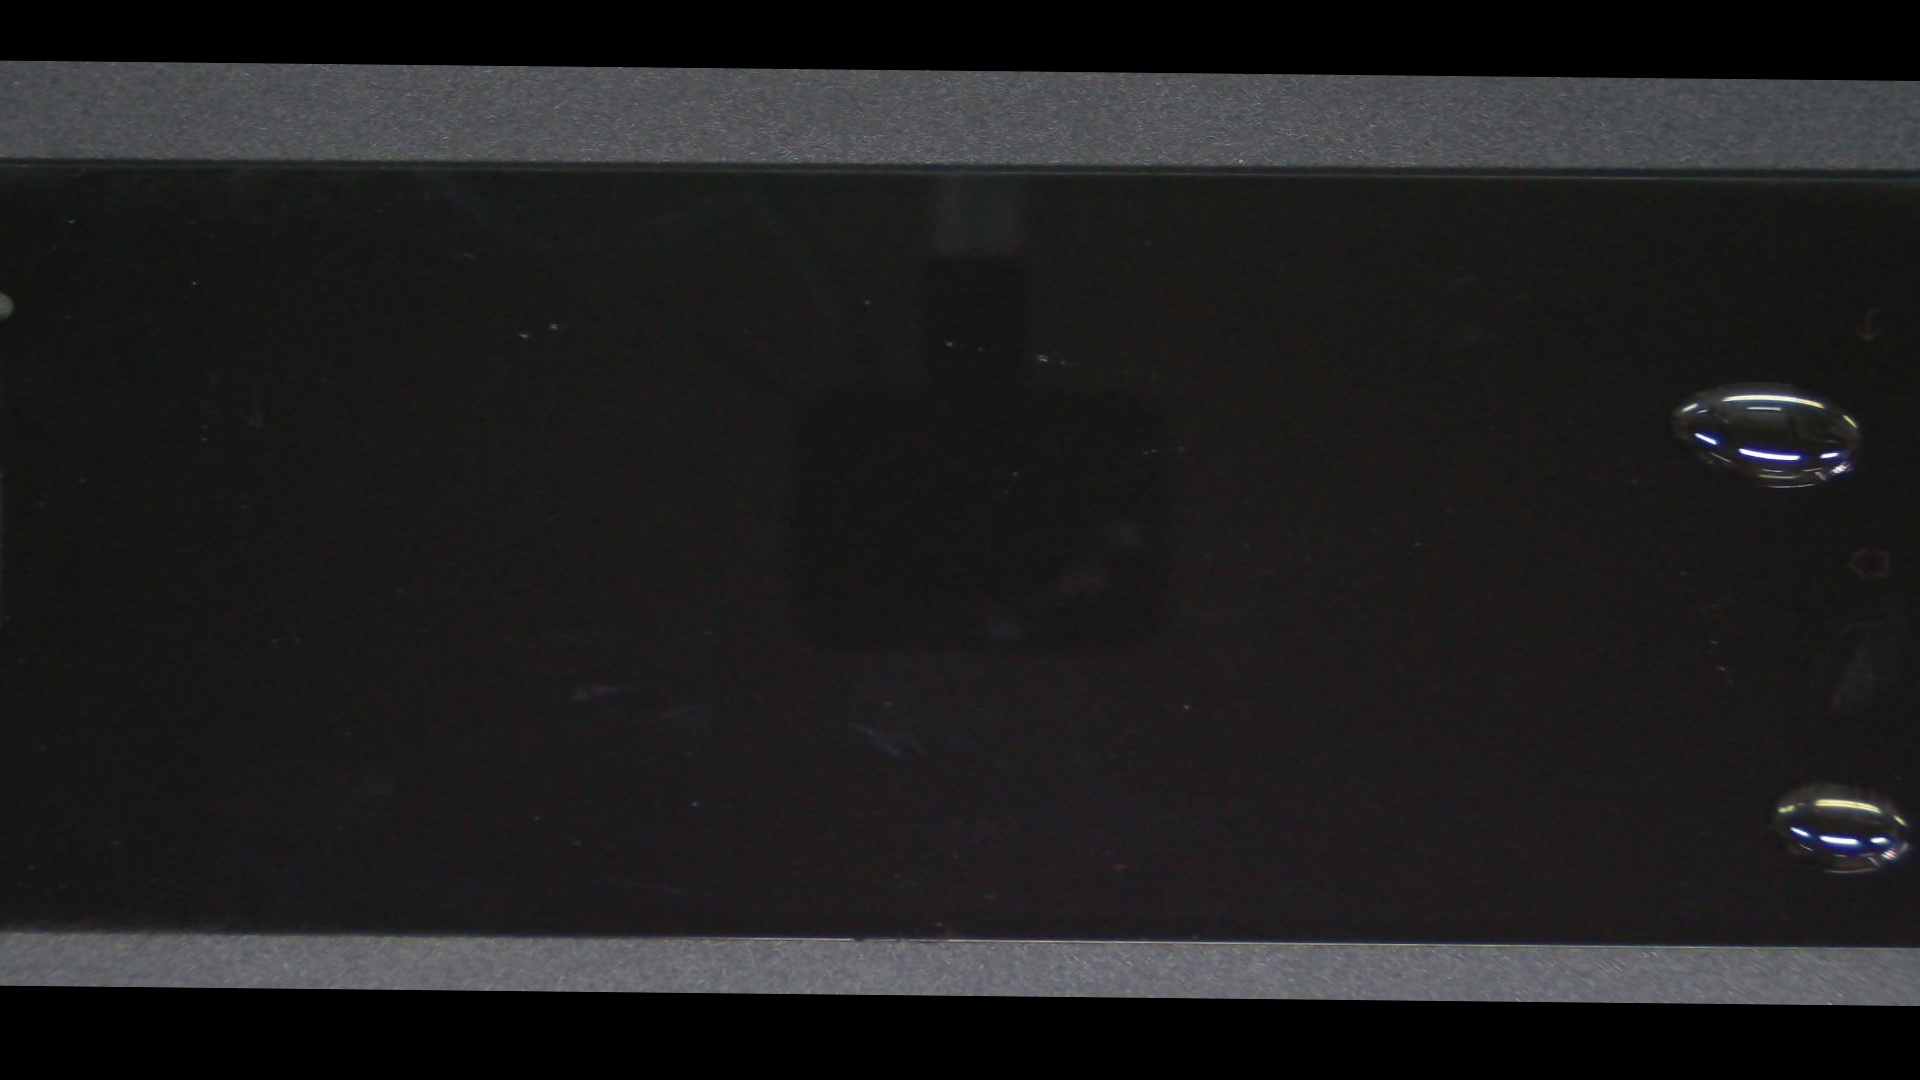oil: (822, 421, 1920, 1007), (783, 220, 1920, 539)
